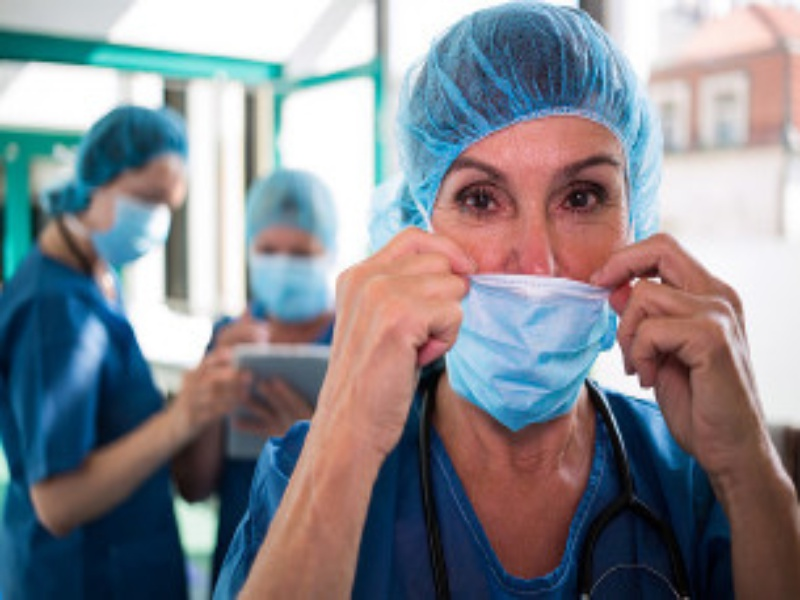mask: (401, 23, 657, 413), (81, 100, 185, 265), (242, 168, 340, 322)
